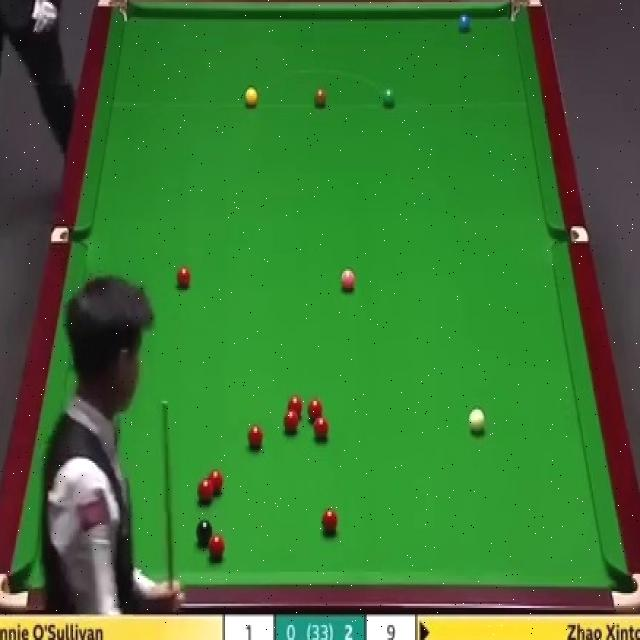black-ball: (195, 519, 213, 547)
blue-ball: (457, 8, 474, 34)
brown-ball: (314, 88, 328, 110)
green-ball: (380, 88, 395, 110)
pink-ball: (338, 264, 358, 294)
red-ball: (207, 534, 226, 563), (321, 509, 339, 538), (195, 479, 215, 505), (282, 410, 300, 436), (248, 427, 265, 452), (175, 265, 192, 289), (286, 395, 303, 418), (209, 469, 225, 492), (314, 416, 329, 440), (307, 399, 323, 420)
white-ball: (468, 408, 486, 436)
yellow-ball: (244, 87, 258, 109)
